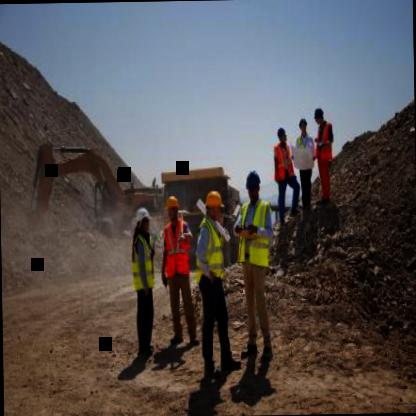helmet: (201, 186, 224, 223), (240, 168, 262, 204), (161, 192, 182, 223), (132, 204, 152, 234), (275, 126, 287, 148), (313, 106, 325, 128)
